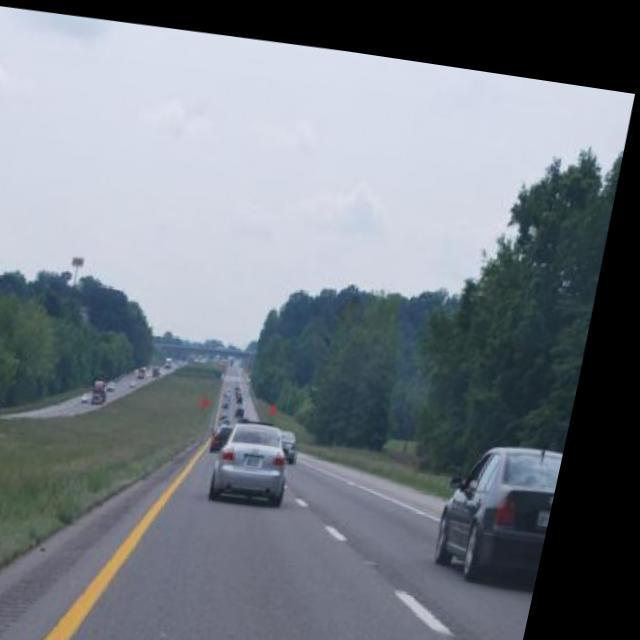license_plate: (554, 490, 569, 510), (263, 444, 278, 455)
